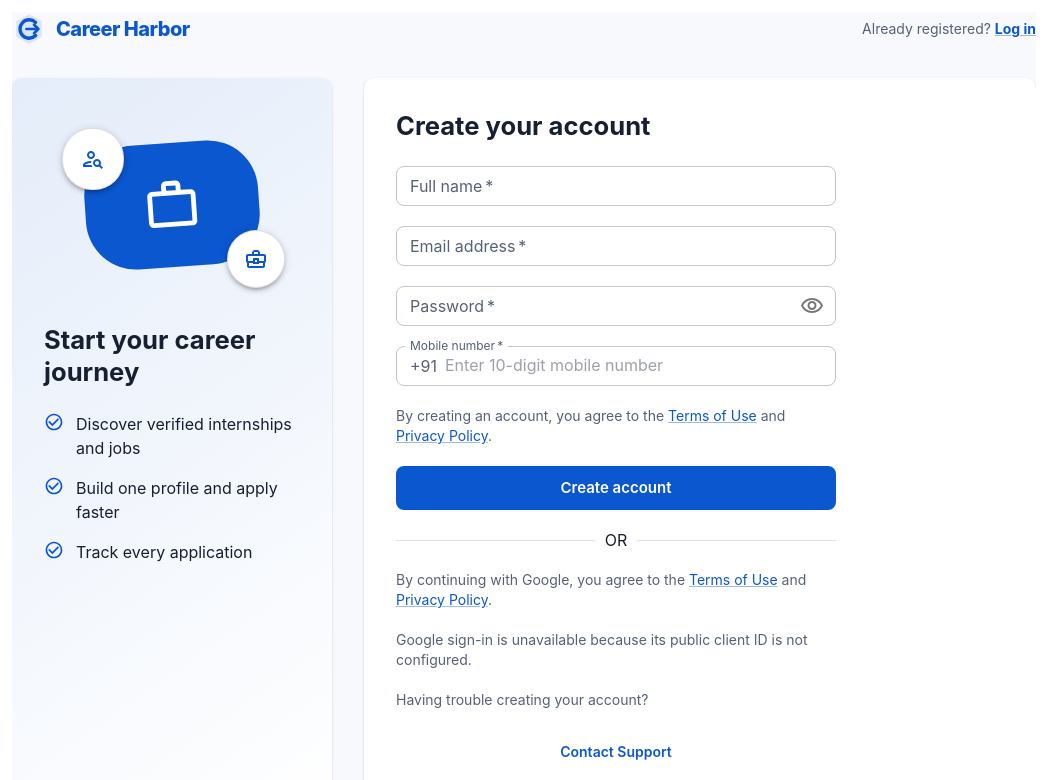
mobile authentication pages › keeps duplicate registration responses privacy-safe and prevents double submit
Later steps or results of the test are not shown.
Type "Manoj Shekapure" into the field labelled "Full name *".
click(616, 186); type("Manoj Shekapure")  # box 396,166 -> 836,206
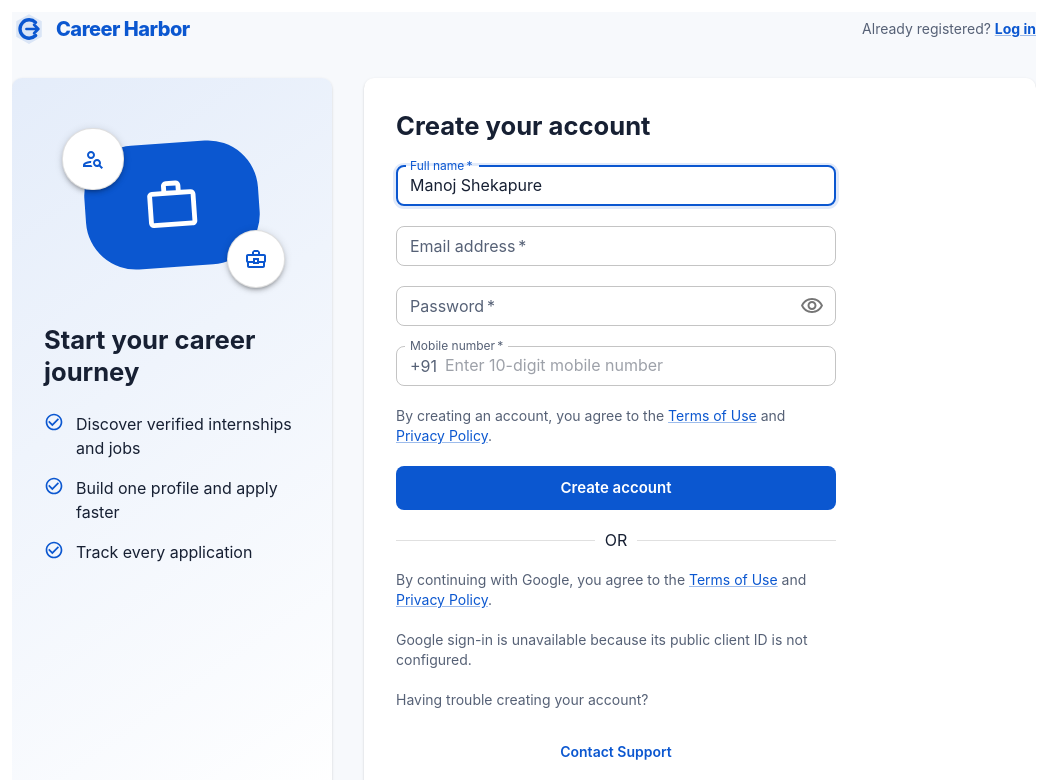
Type "candidate@example.com" into the field labelled "Email address *".
click(616, 246); type("candidate@example.com")  # box 396,226 -> 836,266
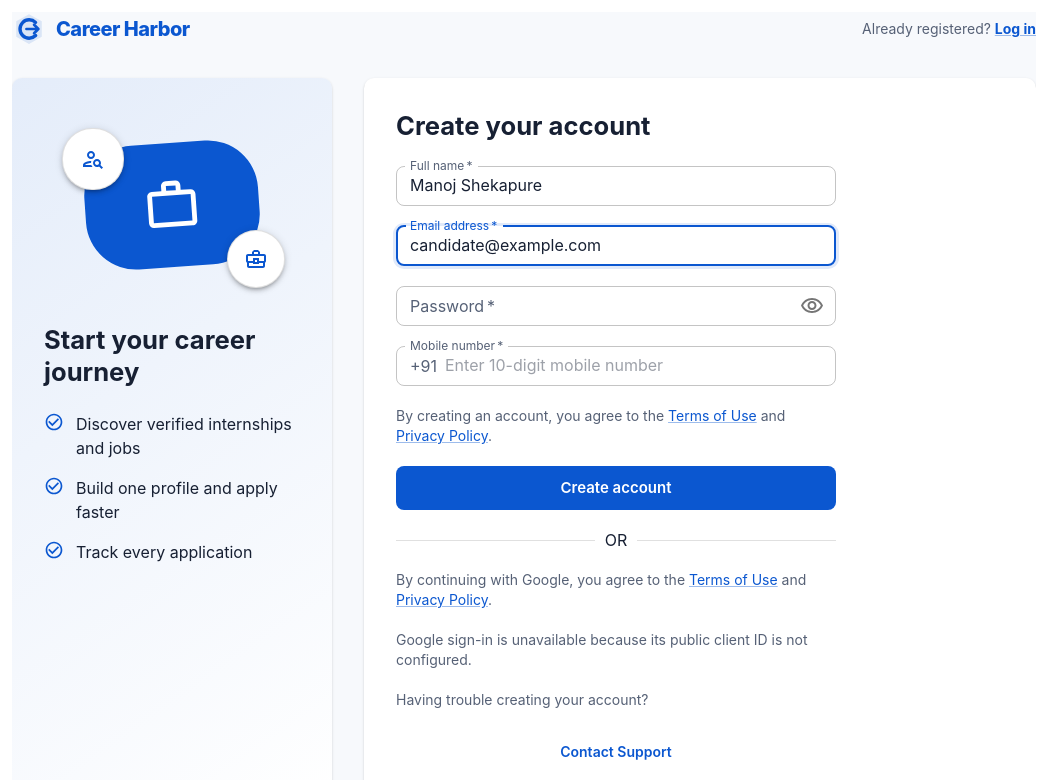
Type "abc 12!" into the password field labelled "Password *".
click(589, 306); type("abc 12!")  # box 396,286 -> 782,326
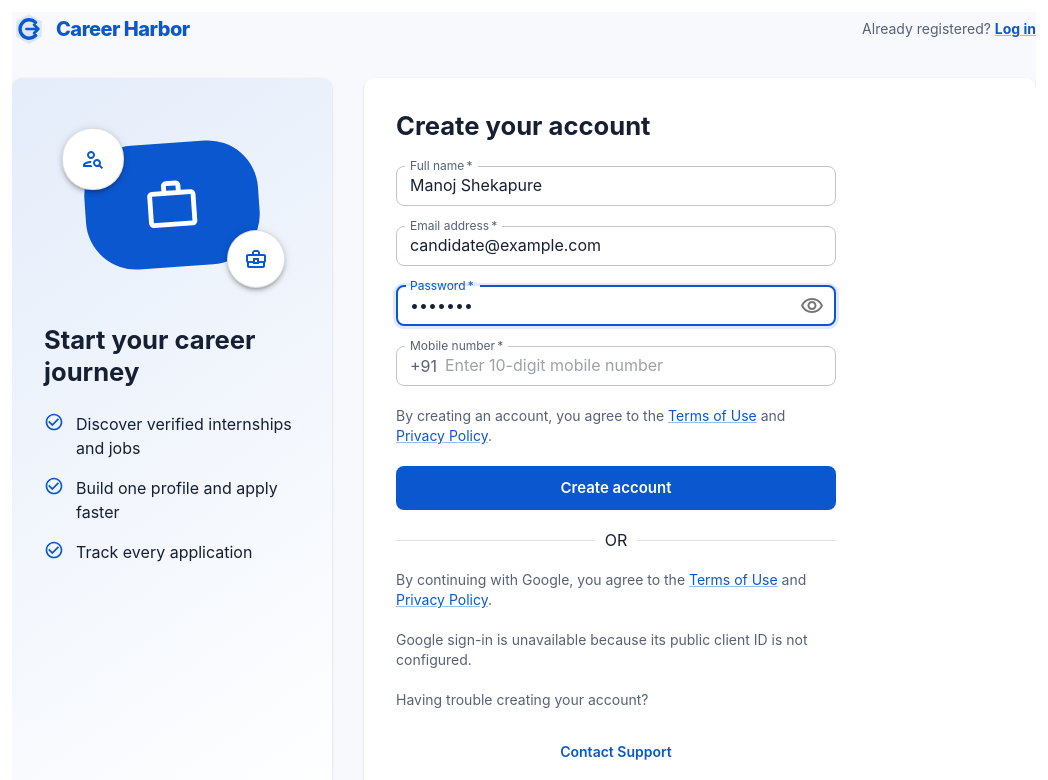
Type "9876543210" into the field labelled "Mobile number *".
click(640, 366); type("9876543210")  # box 445,346 -> 836,386
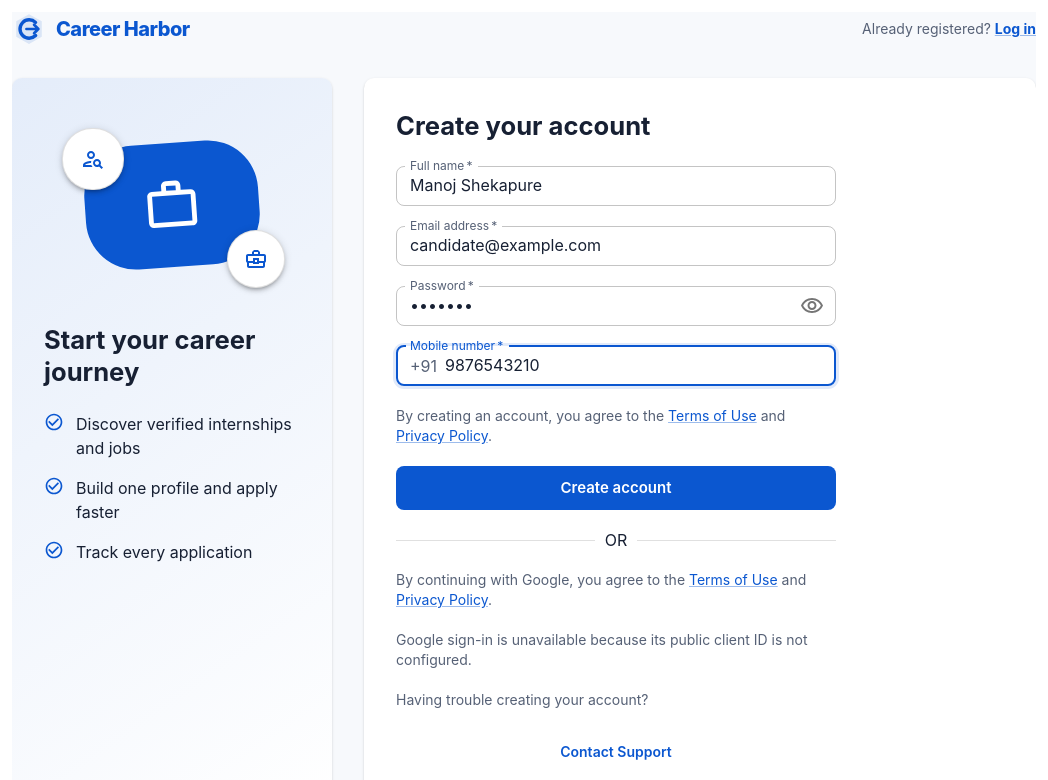
Double-click the button "Create account".
double_click(616, 488)  # box 396,466 -> 836,510
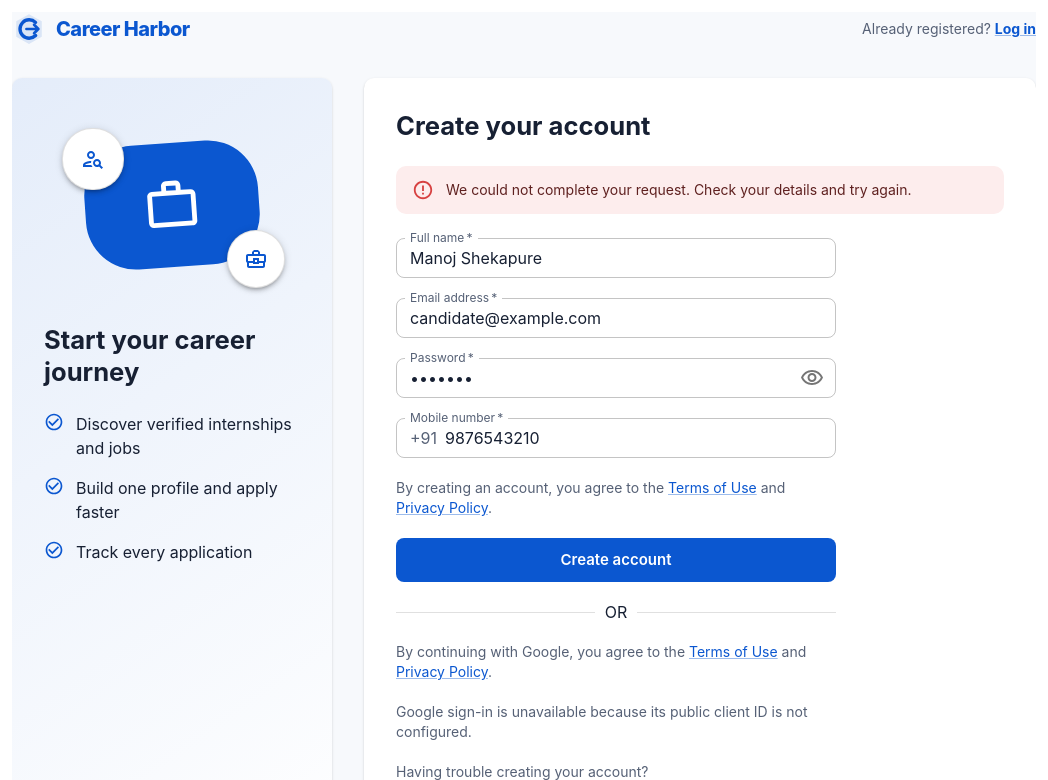
Result: the text "could not complete your request" is shown at 446,181 -> 912,198
